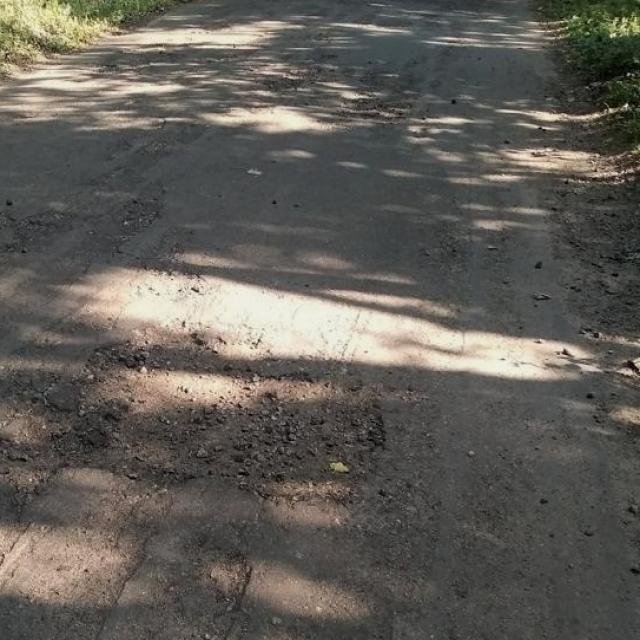road-pothole: (62, 316, 388, 525)
